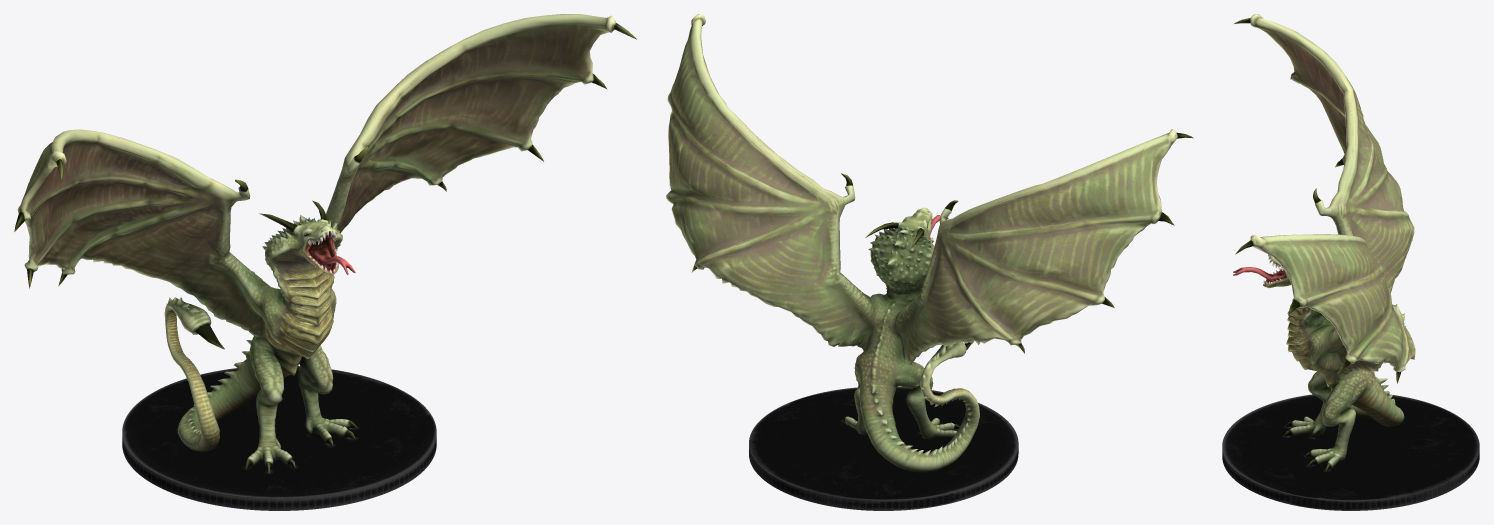
File: MZ4250 - Wyvern.glb
The picture shows the model from 3 angles, left to right: view 1: azimuth 30°, elevation 25°; view 2: azimuth 150°, elevation 25°; view 3: azimuth 270°, elevation 25°; orthographic projection. The views are drawn at different scales.
Visible parts, largest first — view 1: body_low.001, base_low.001; view 2: body_low.001, base_low.001; view 3: body_low.001, base_low.001.
Part boxes in pixels (x1=…): body_low.001: x1=14, y1=14, x2=636, y2=473; base_low.001: x1=122, y1=366, x2=436, y2=510; body_low.001: x1=666, y1=14, x2=1193, y2=472; base_low.001: x1=749, y1=386, x2=1018, y2=510; body_low.001: x1=1233, y1=14, x2=1415, y2=471; base_low.001: x1=1222, y1=394, x2=1479, y2=510.
Bounding box in the file's own units: 3.88 × 2.52 × 1.78.
Materials: 1 (1 with a texture image).
